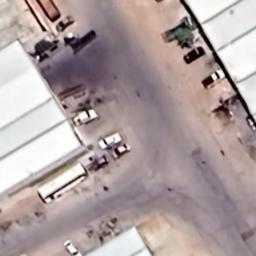others: (34, 162, 92, 206)
pickup: (201, 68, 227, 90), (96, 132, 124, 152)
sedan: (71, 108, 100, 128), (182, 45, 206, 67), (52, 14, 76, 35), (61, 237, 82, 256), (110, 142, 132, 160)
